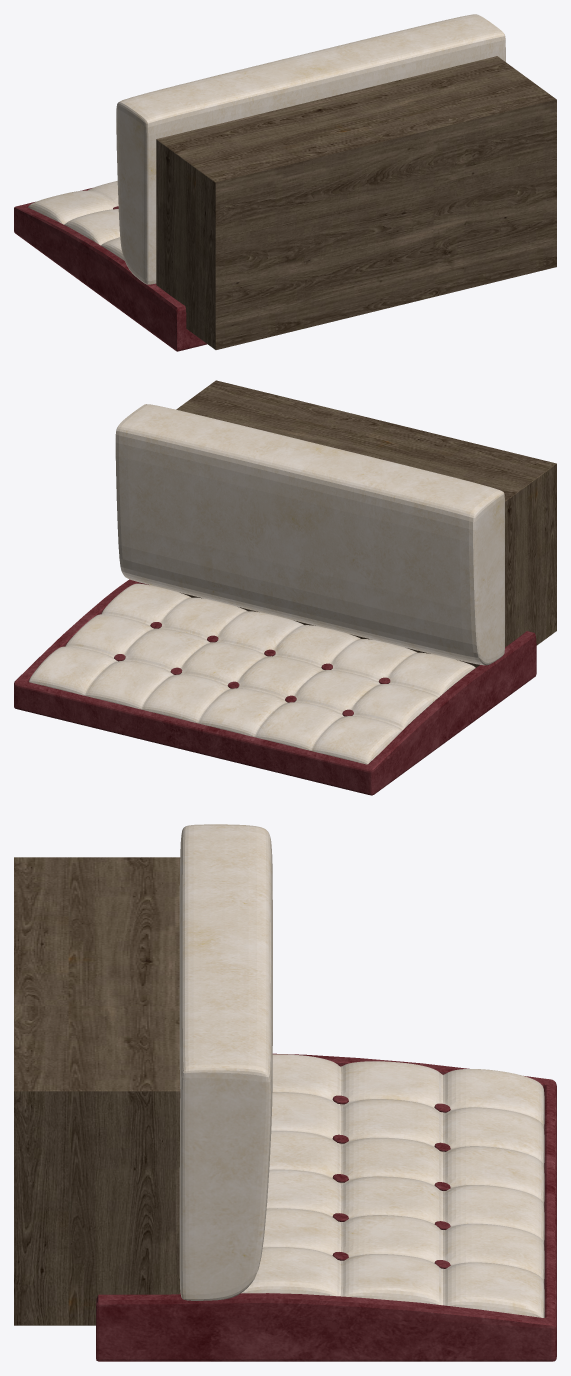
Rendered from Sofa4.FBX.
3 views of the same model, one above another, from view 1: azimuth 30°, elevation 25°; view 2: azimuth 150°, elevation 25°; view 3: azimuth 270°, elevation 25° (orthographic). The views are drawn at different scales.
Parts seen in each view (by area): view 1: Plane006; view 2: Plane006; view 3: Plane006.
Part boxes in pixels (x1,y1,x2,y2): Plane006: [14, 14, 556, 351]; Plane006: [14, 380, 556, 795]; Plane006: [14, 824, 556, 1361].
Bounding box in the file's own units: 42.38 × 23.75 × 39.43.
3 materials, 3 textured.
